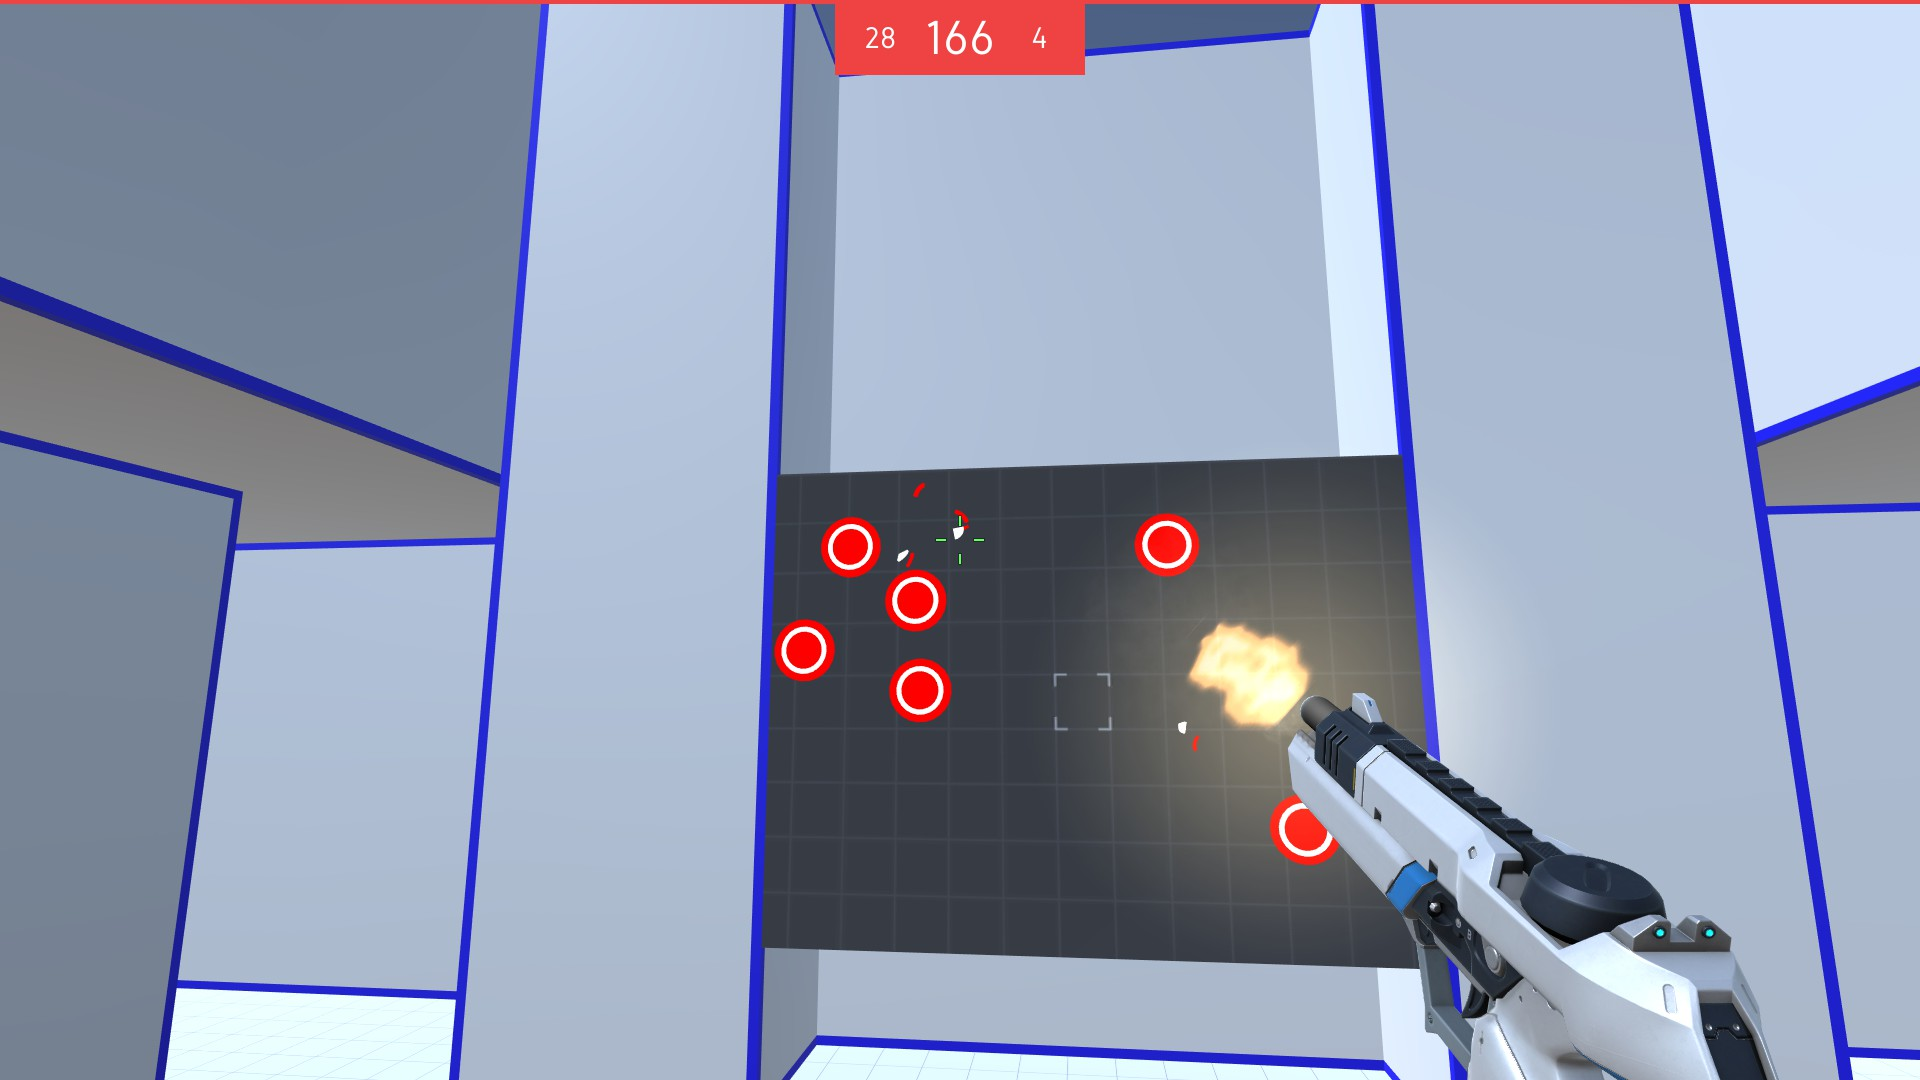target: (1267, 794, 1342, 864), (886, 658, 957, 727), (884, 567, 953, 636), (771, 613, 840, 683), (1133, 512, 1201, 578), (820, 516, 884, 582)
